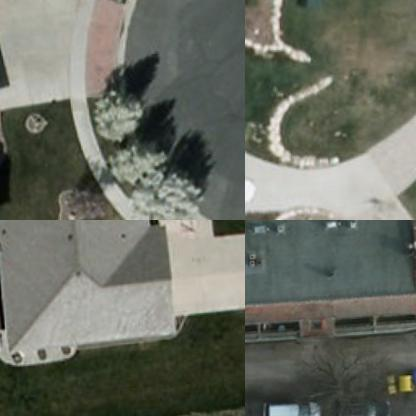car: (332, 393, 393, 415), (264, 400, 322, 415)
